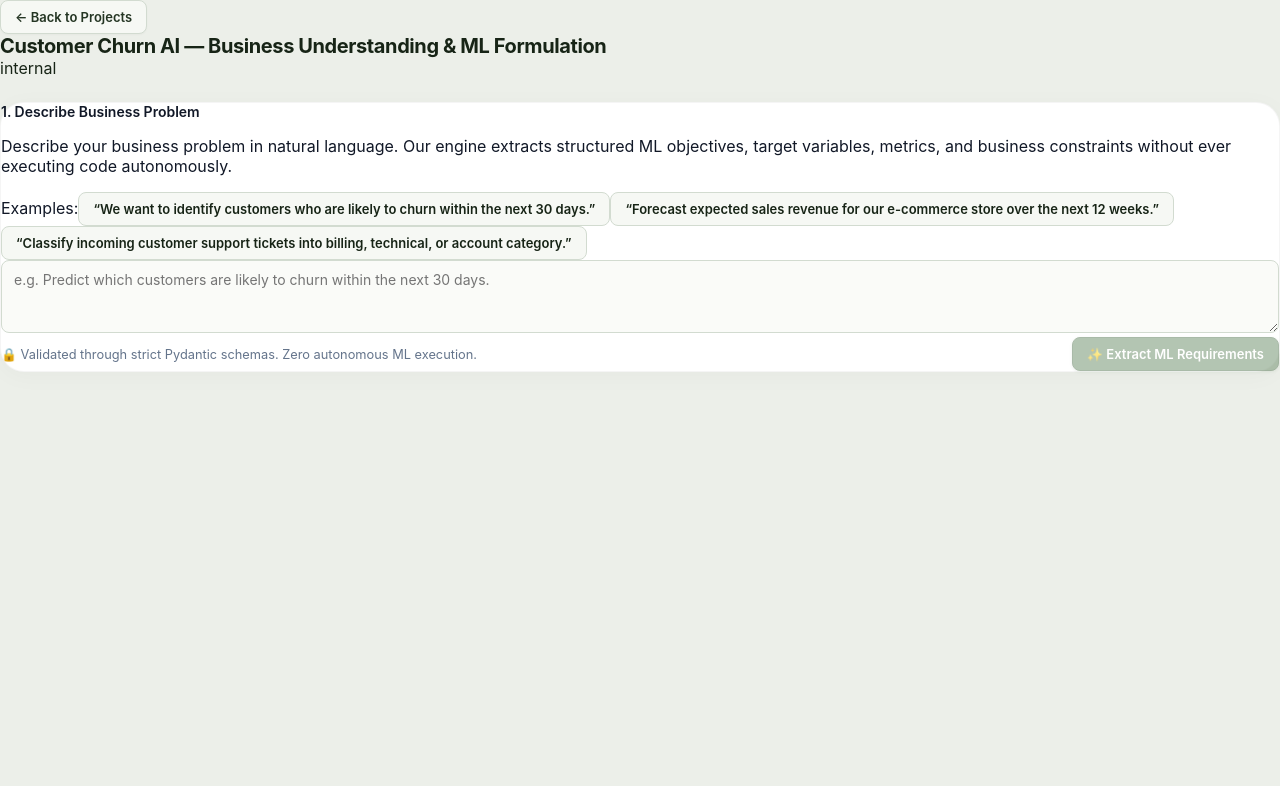
Scenario: RequirementsView Component › extracts requirements on submission and displays editable formulation and summary
Replace the text in the text box with placeholder "Predict which customers are likely to churn" with "We want to identify customers who are likely to churn within the next 30 days.": (640, 296) top-left (1, 260), bottom-right (1279, 333)
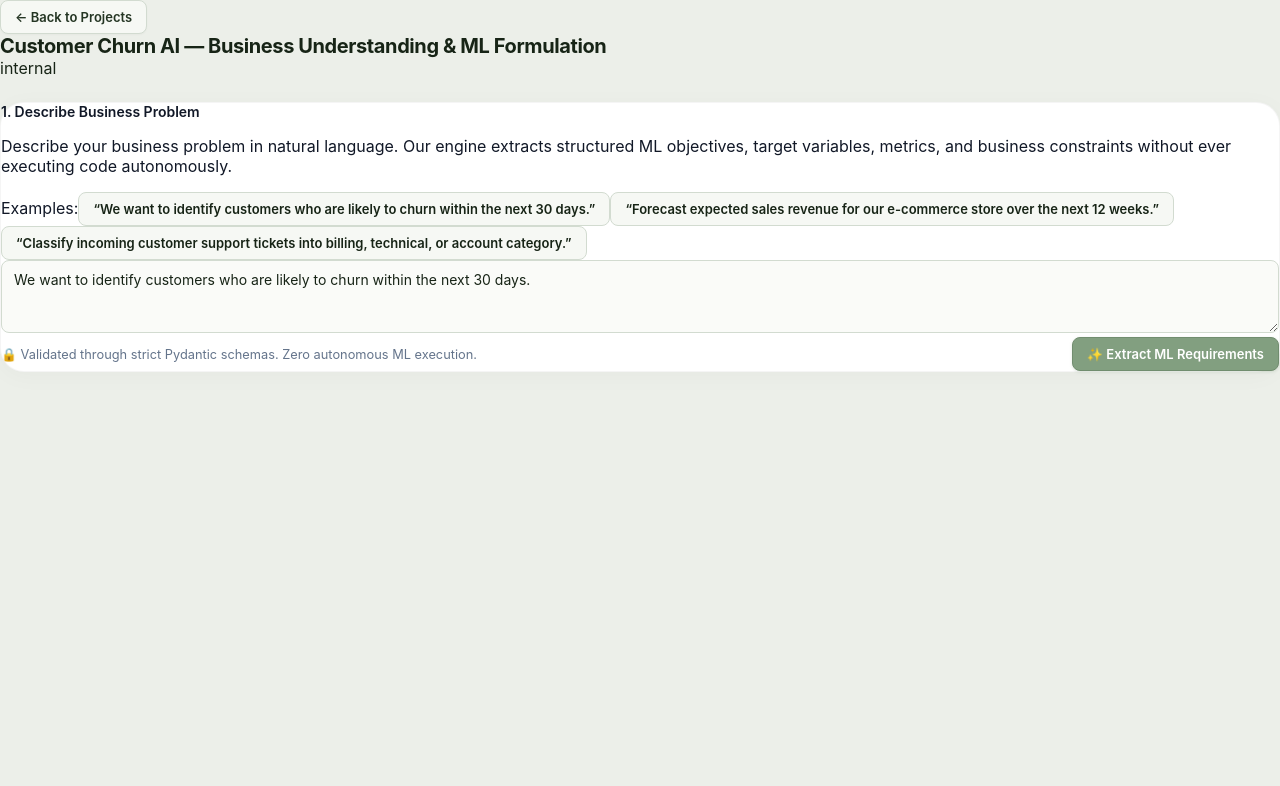
Click the button "✨ Extract ML Requirements": (1175, 354) top-left (1072, 337), bottom-right (1279, 371)
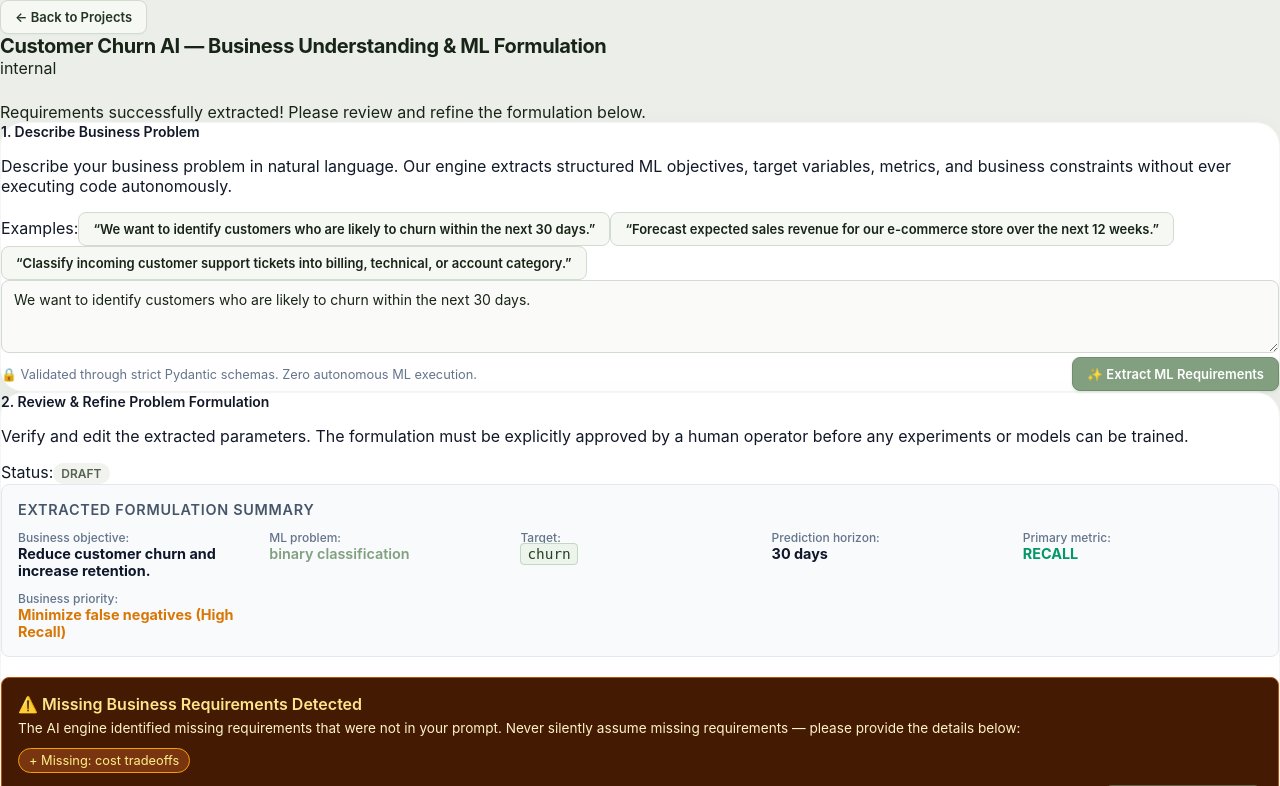
Expected: the heading "Extracted Formulation Summary" is shown, top-left (18, 501), bottom-right (314, 518)
